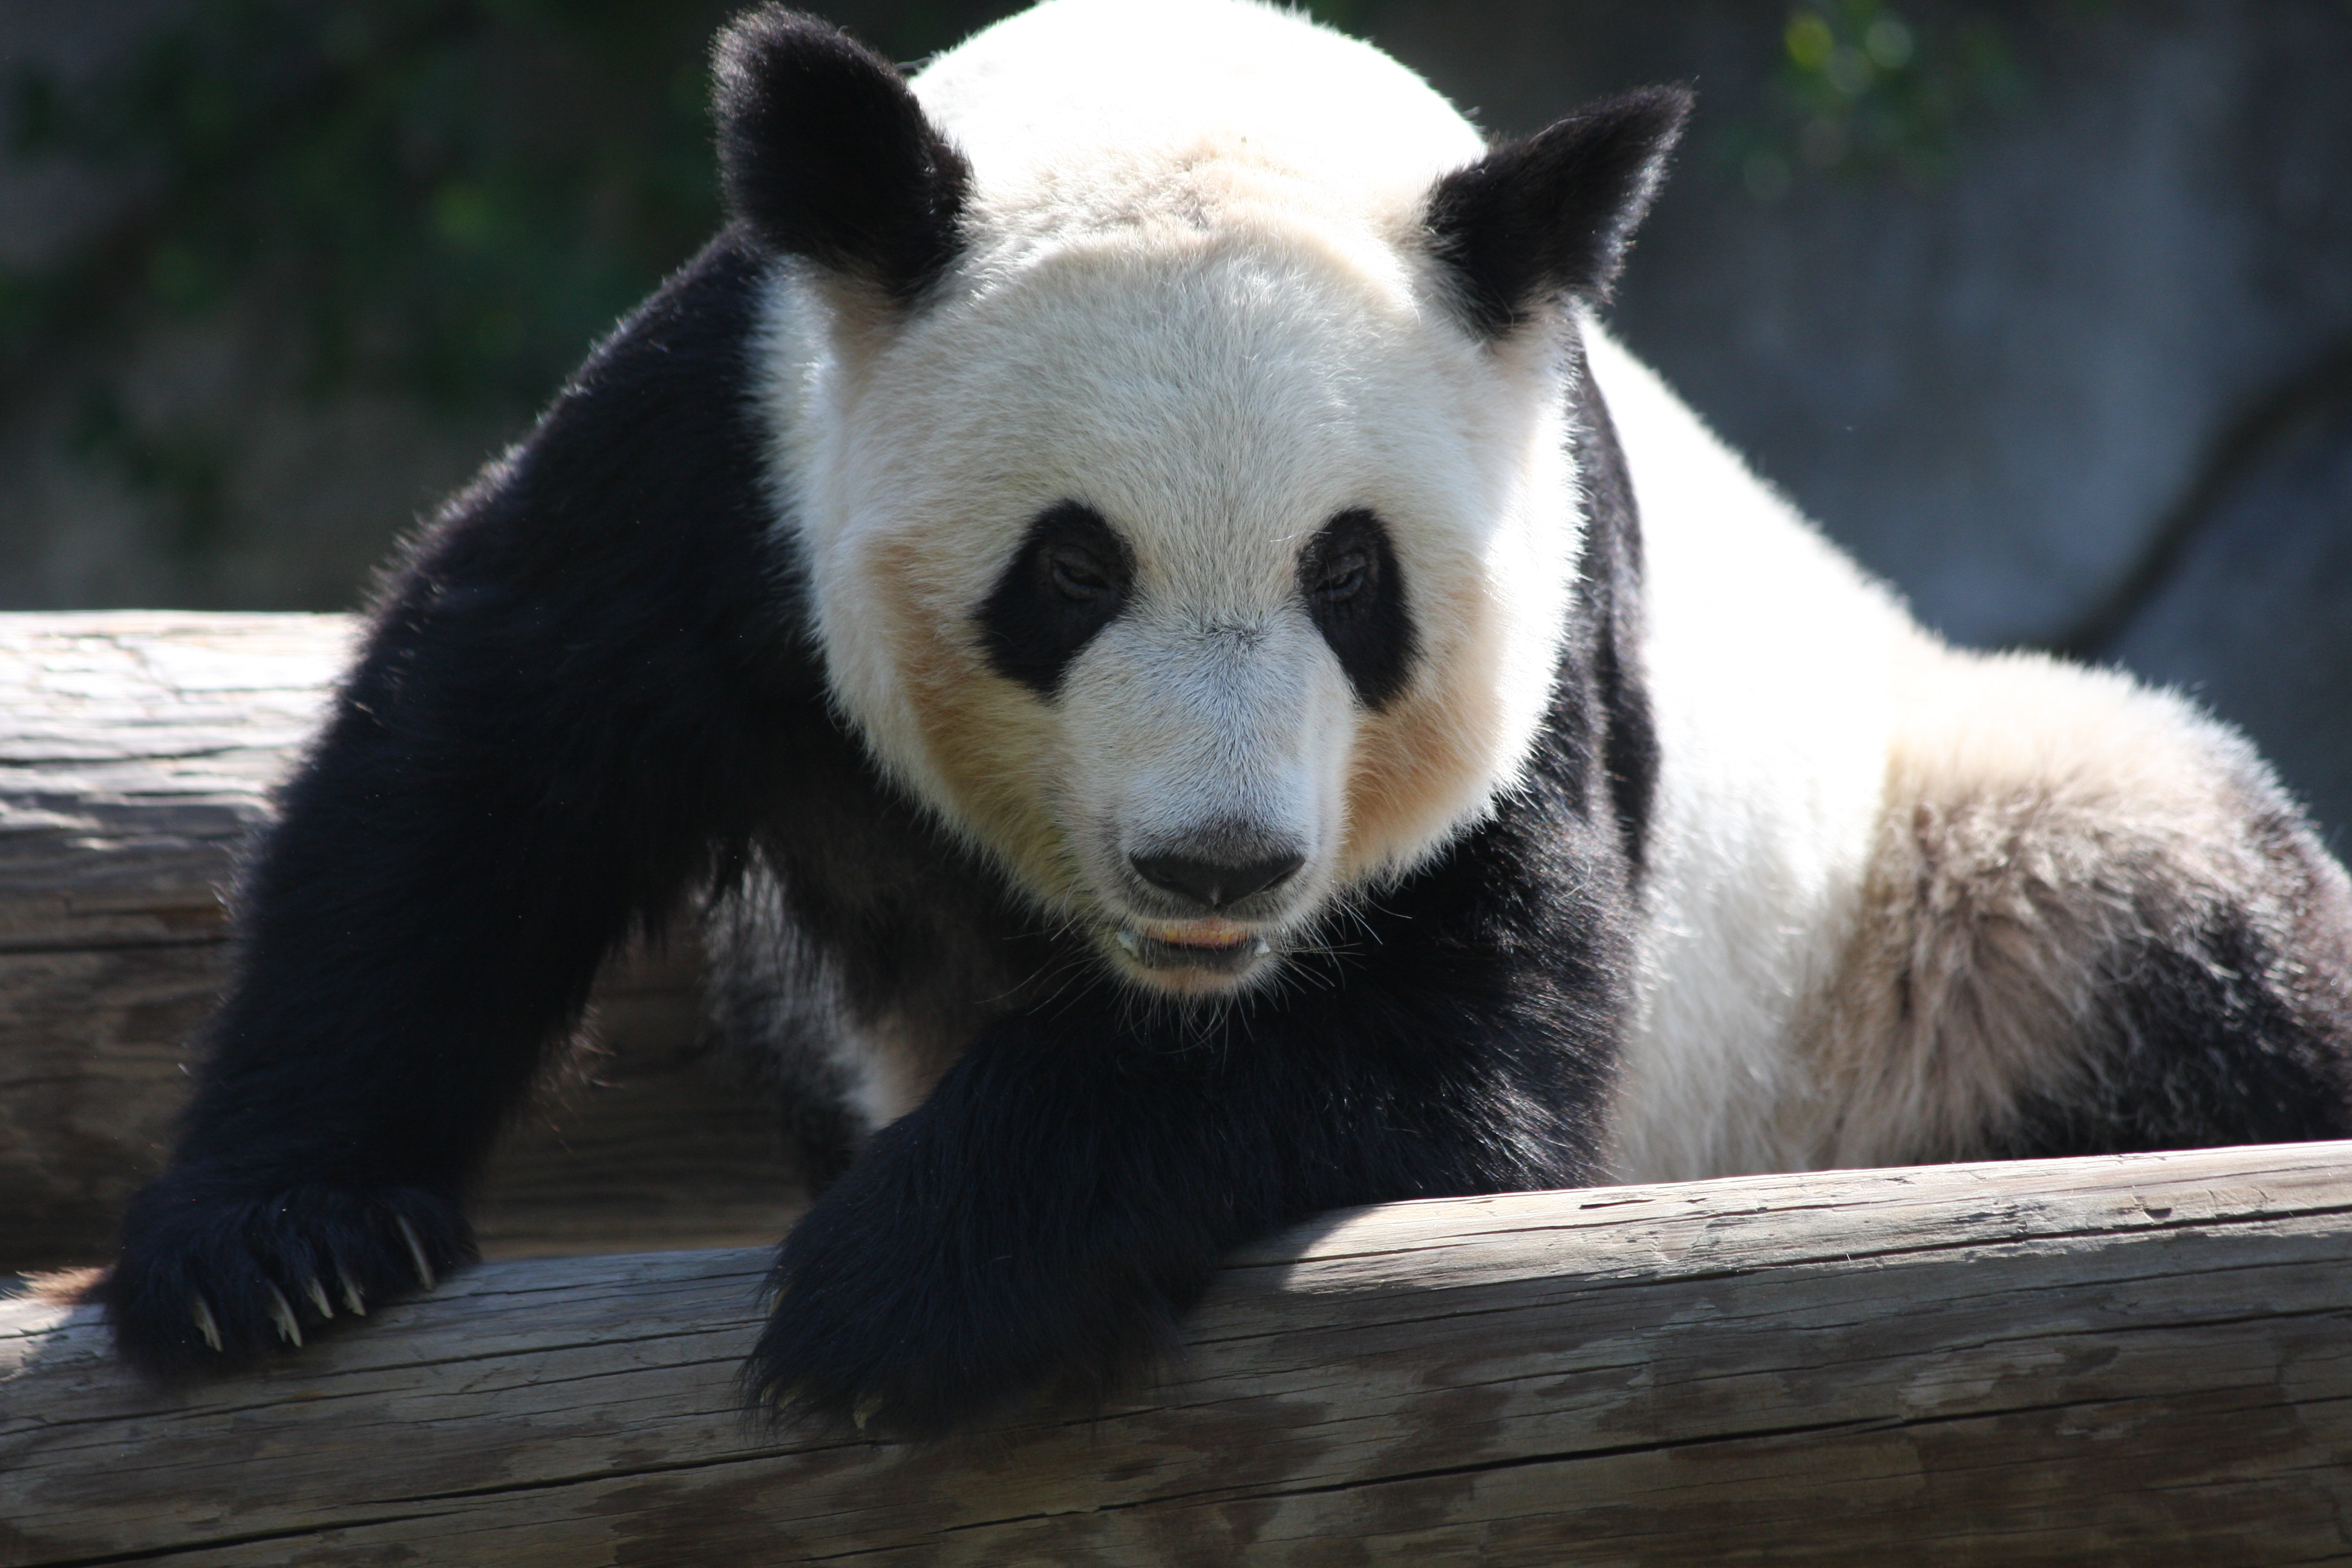panda: (100, 35, 2275, 1452)
